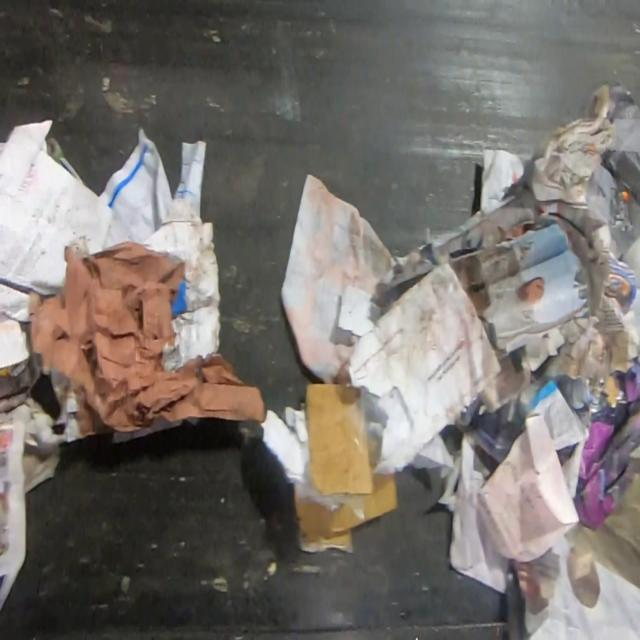cardboard: (304, 383, 399, 519), (290, 485, 362, 552)
